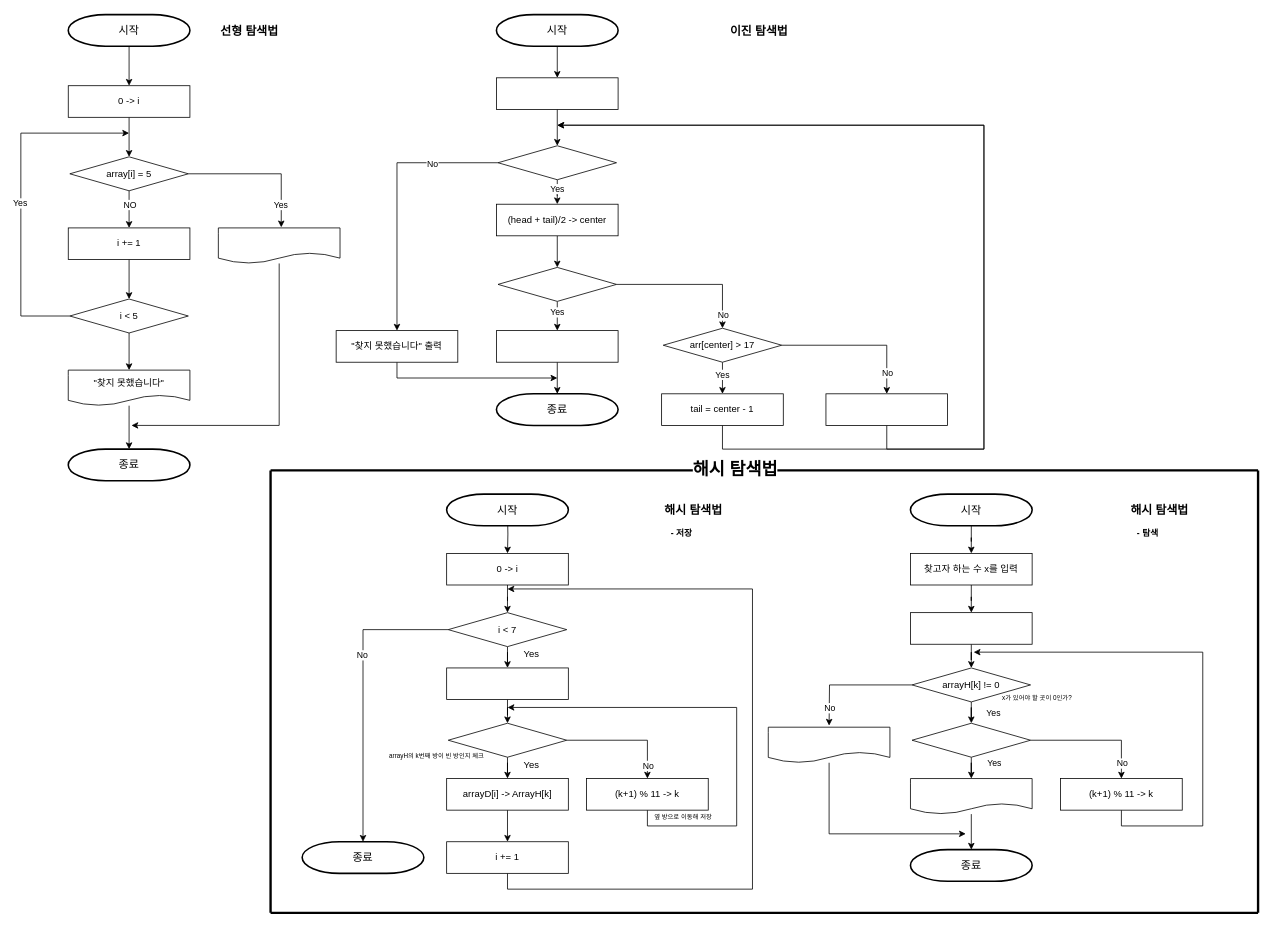
Some shapes in this 1274 by 928 pixel diagram are drawn without their labels. The shapes that lost their labels are listed below. From the top down, each one's centre as x and y in pixels, then its label:
(x=557, y=93): 0 -> head 0 -> tail
(x=557, y=162): head <= tail
(x=279, y=245): "i번째 요소가 일치"
(x=557, y=284): arr[center] = 17
(x=557, y=346): "center 번째 요소와 일치" 출력
(x=886, y=409): head = center + 1
(x=971, y=628): x % 11 -> k
(x=507, y=683): arrayD[i] % 11 -> k
(x=507, y=739): arrayH[k] = 0
(x=828, y=744): "x는 존재하지 않습니다"
(x=971, y=739): arrayH[k] = x
(x=971, y=796): "저장 위치는 k번째 요소다"
